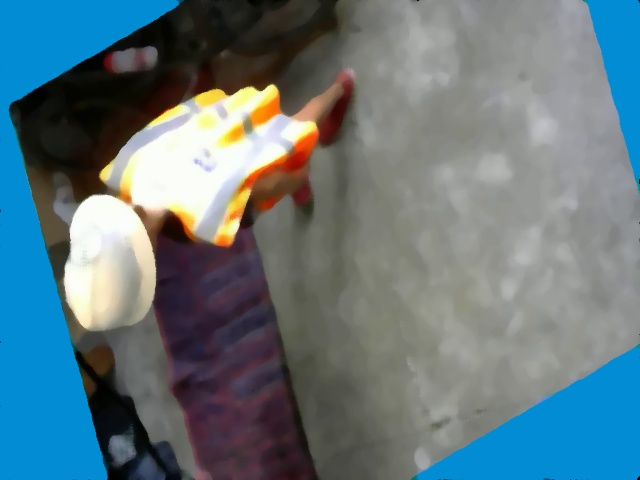three: (63, 218, 107, 274)
